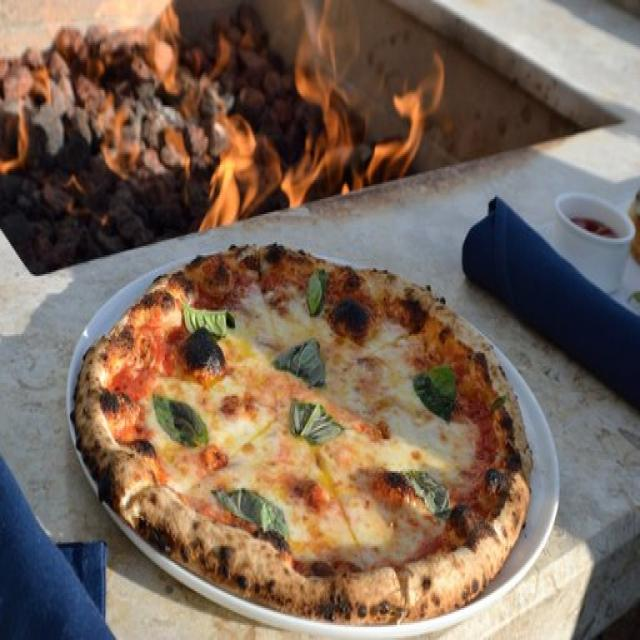Basil: (212, 481, 290, 544), (178, 296, 234, 369), (152, 392, 208, 450), (278, 332, 324, 387), (290, 398, 344, 444), (405, 468, 449, 517), (417, 360, 453, 416), (304, 267, 326, 313)
Pizza: (71, 246, 531, 627)
